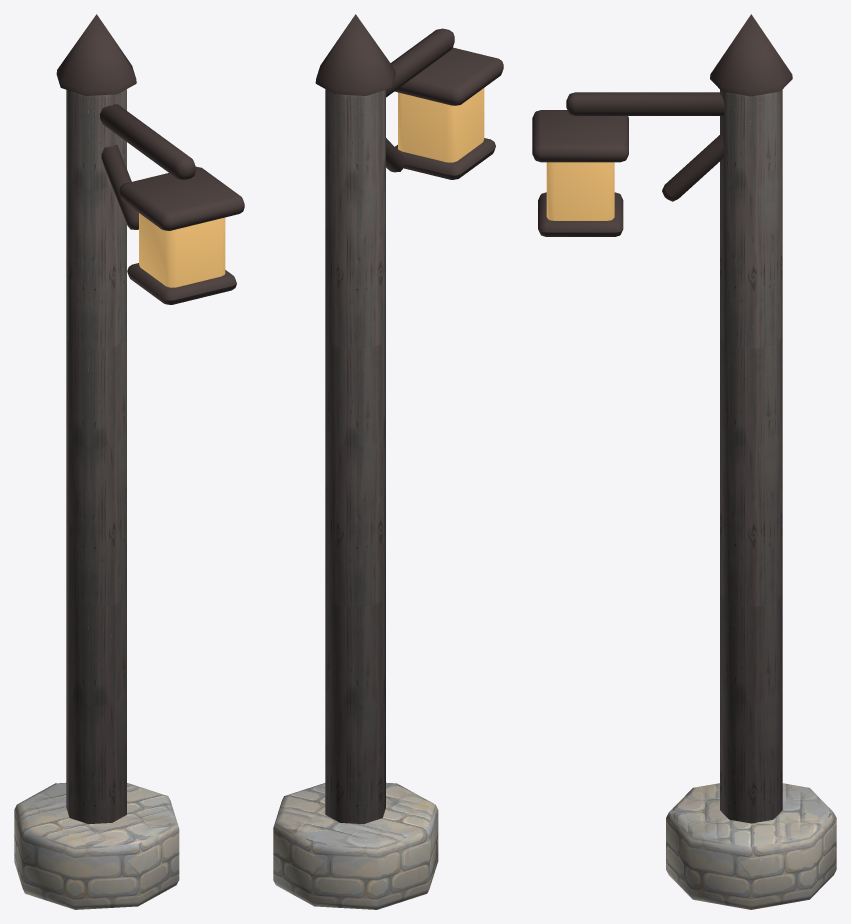
Rendered from lamp_post.gltf.
3 renders of one model, left to right at view 1: azimuth 30°, elevation 25°; view 2: azimuth 150°, elevation 25°; view 3: azimuth 270°, elevation 25°, orthographic.
Parts seen in each view (by area): view 1: lamp_post; view 2: lamp_post; view 3: lamp_post.
Part boxes in pixels (box(x1,y1,x2,y2)): lamp_post: box(14, 14, 244, 909); lamp_post: box(273, 14, 503, 909); lamp_post: box(532, 14, 836, 909).
Size of the model in its own units: 0.6 by 3.35 by 1.07.
Materials: 4 (4 with a texture image).
